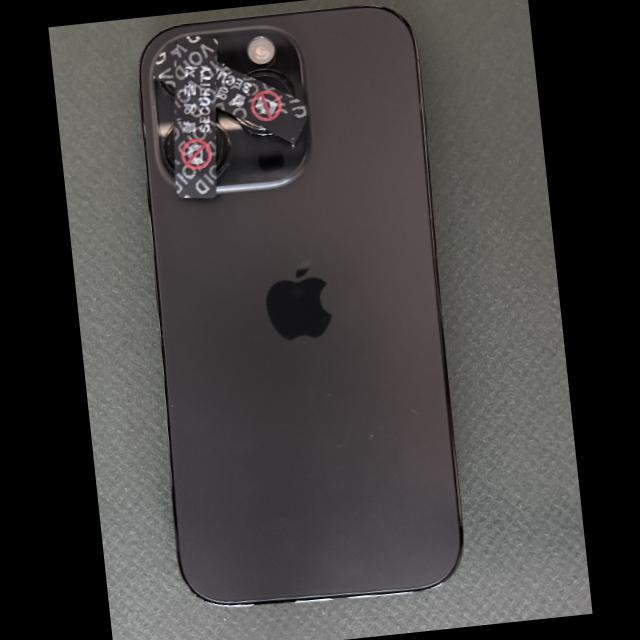lens: (249, 69, 294, 95), (216, 123, 230, 174), (161, 81, 175, 95)
phone: (141, 7, 462, 604)
sticker: (173, 35, 218, 199), (217, 63, 308, 143)
